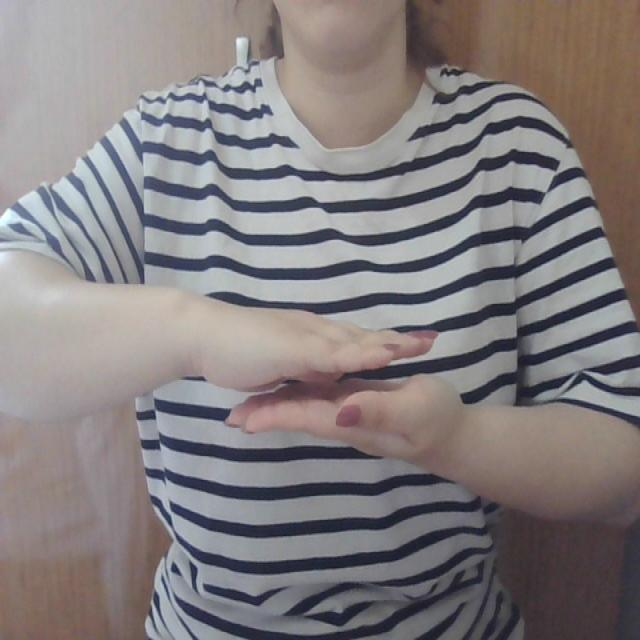Arkadas: (150, 270, 489, 480)
